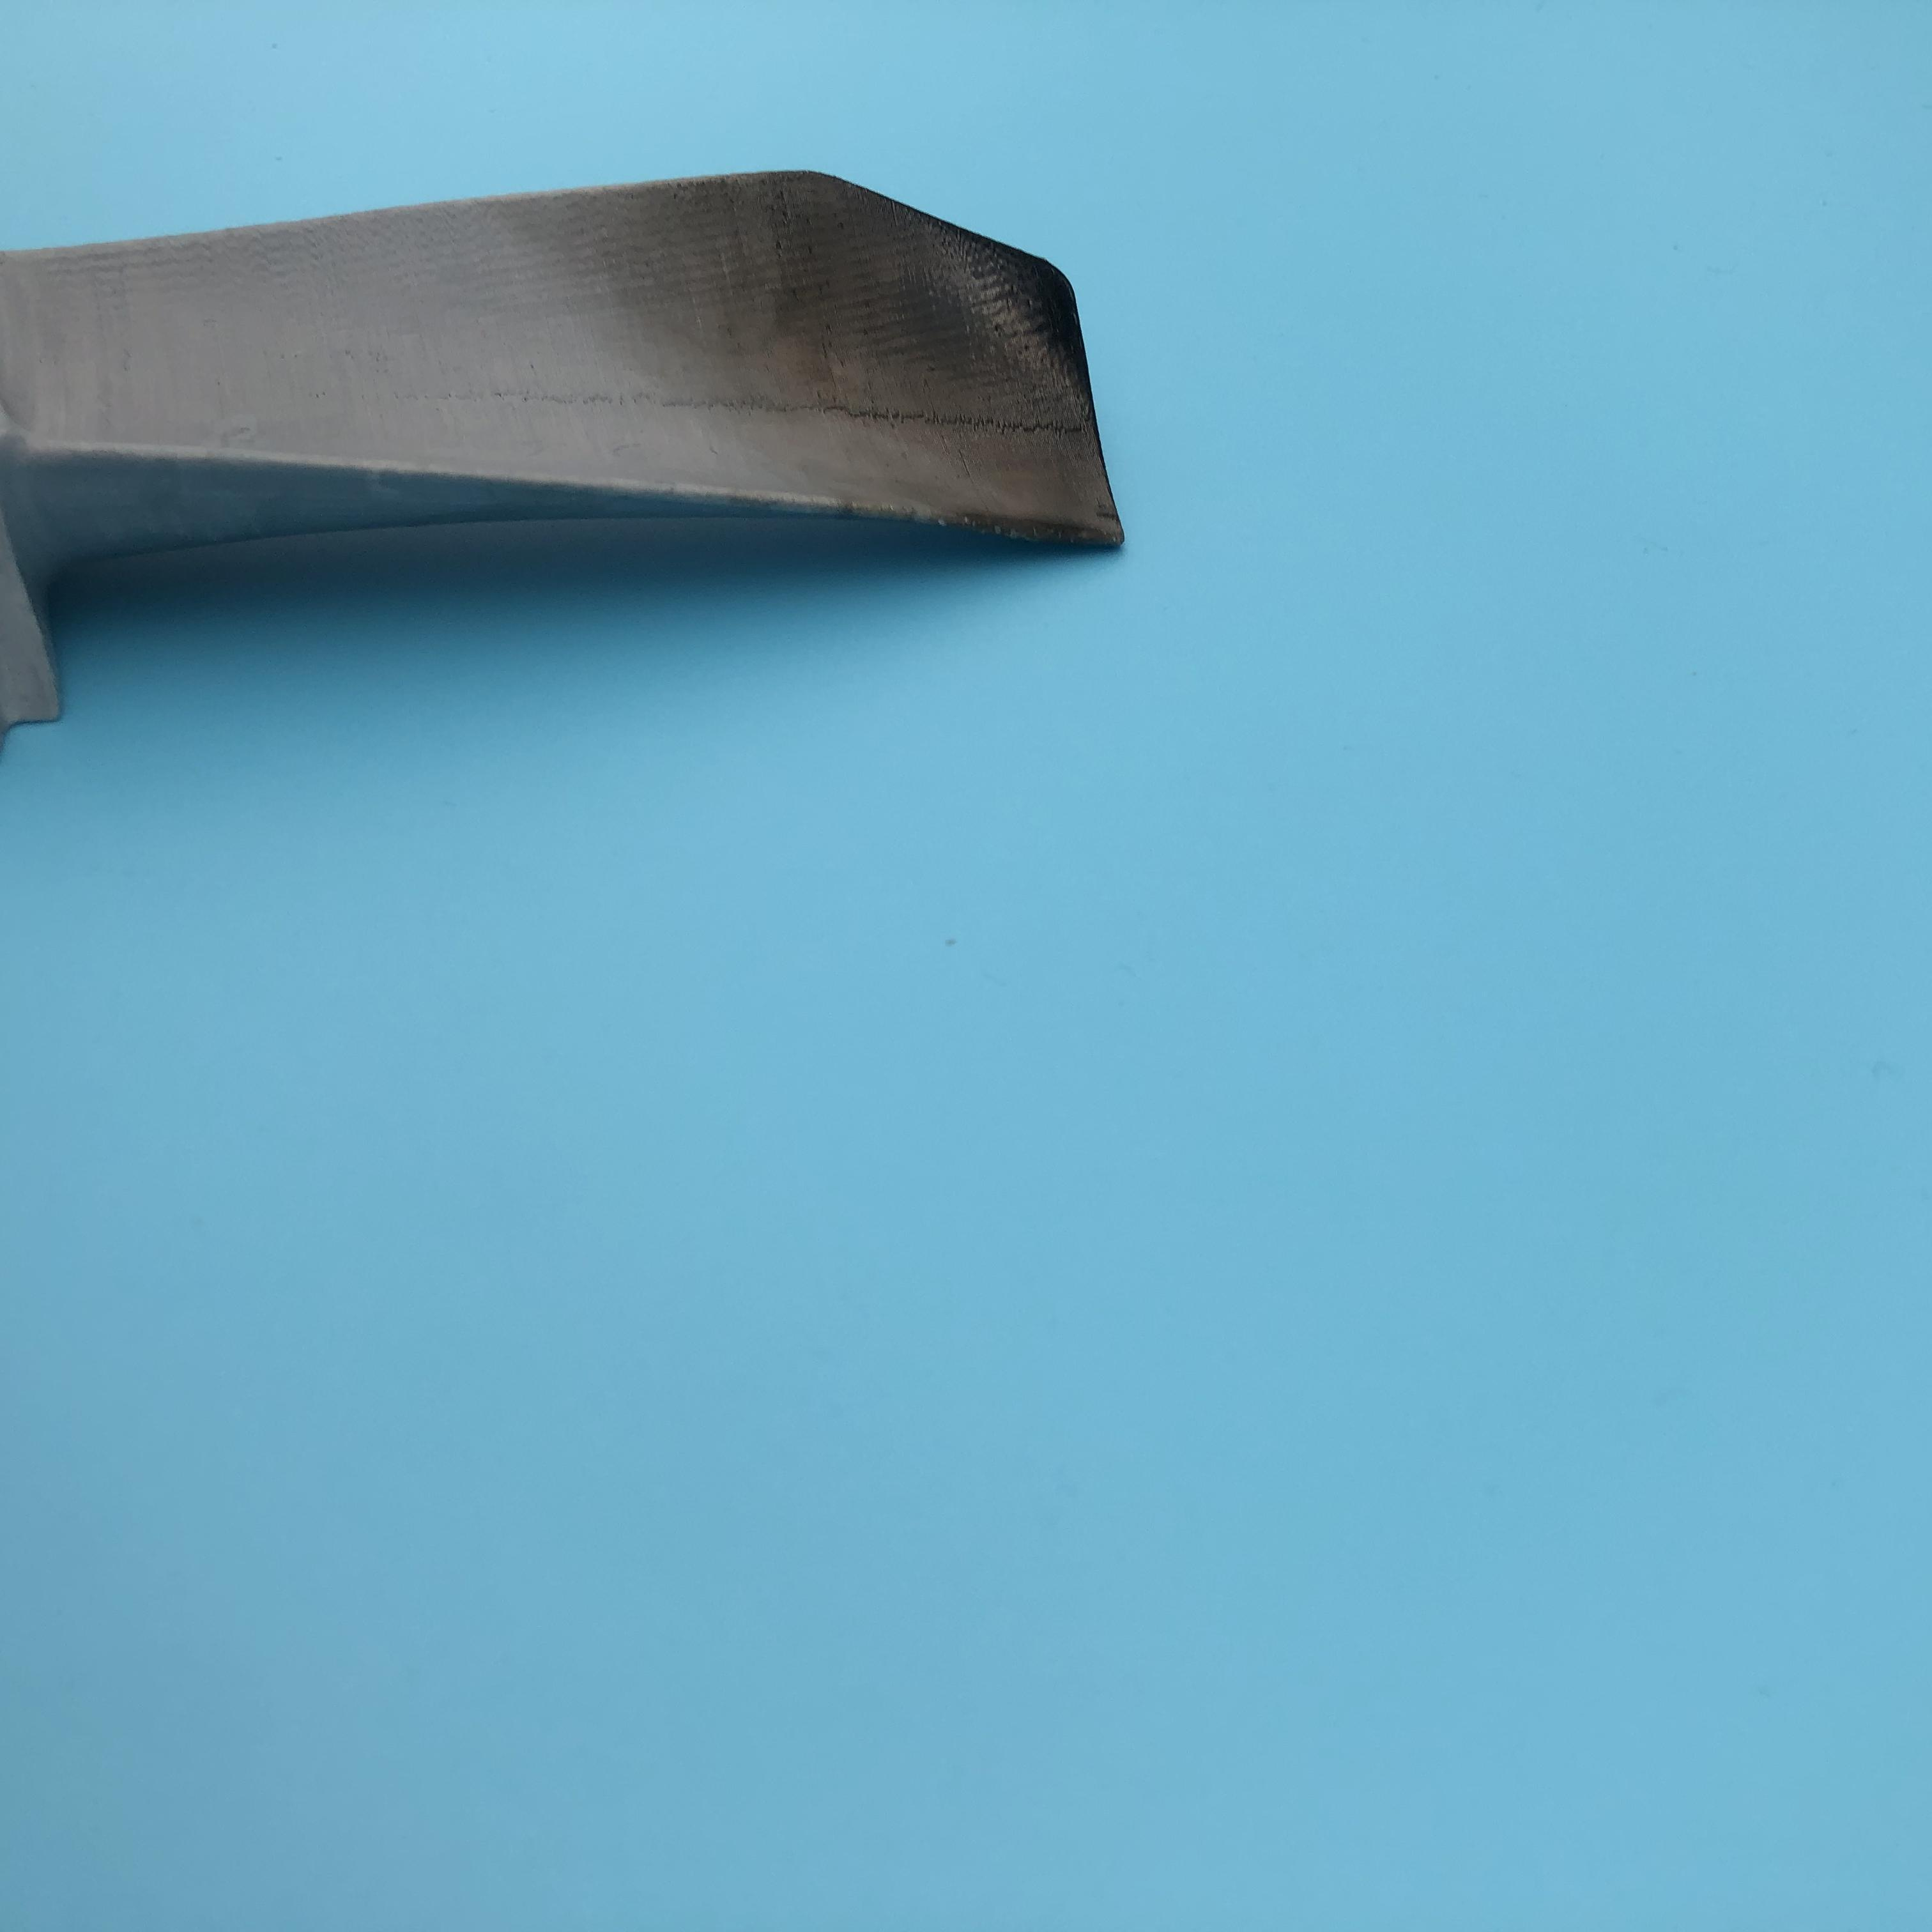ablation: (658, 198, 1111, 541)
